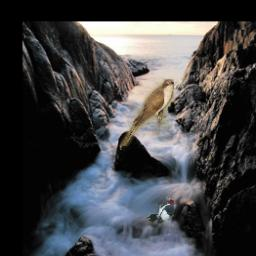Cuckoo: (121, 79, 175, 146)
Woodpecker: (147, 197, 175, 224)
